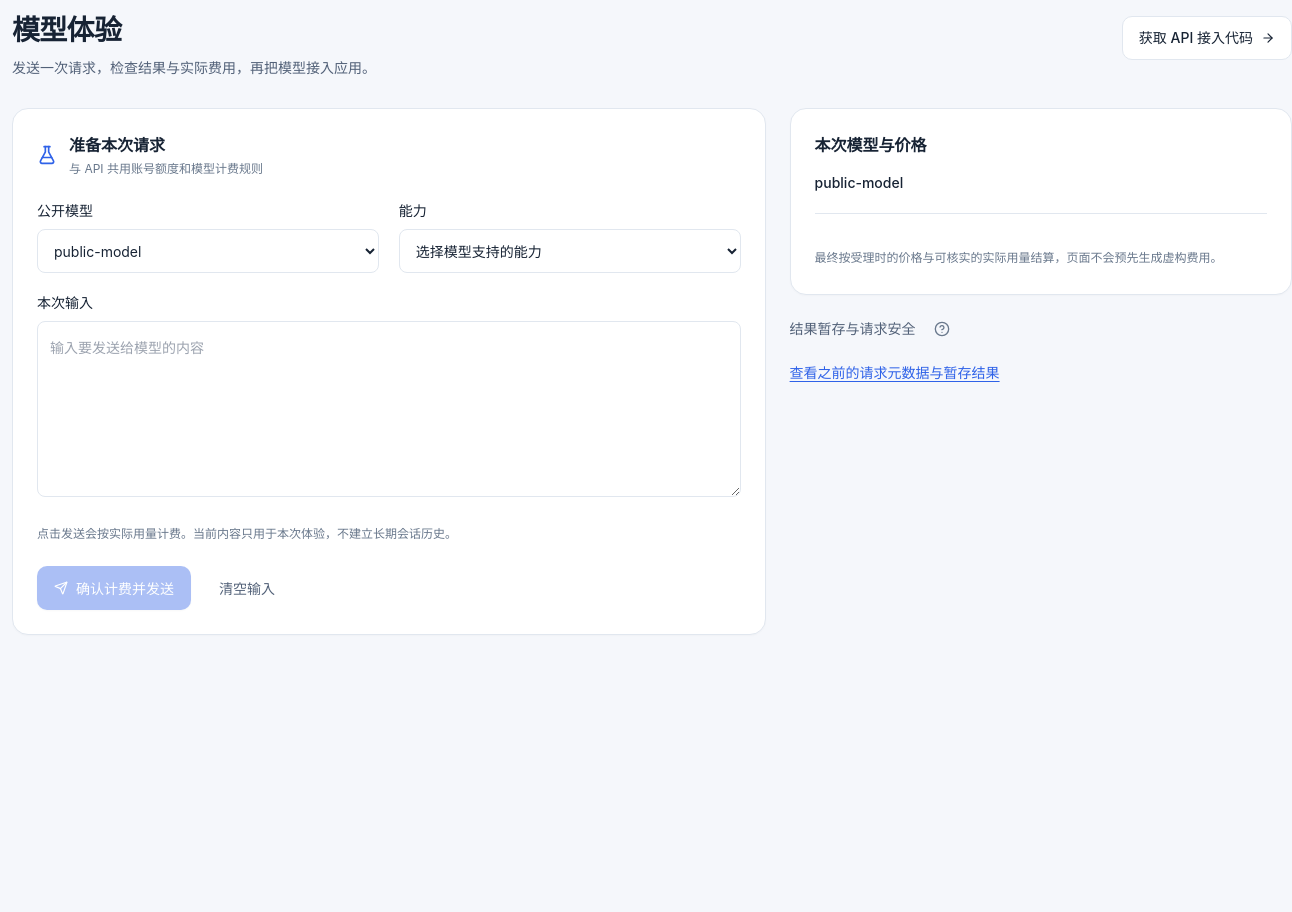
Test: sends the image prompt without a vendor parameter form
The image size is (1292, 912).
Select "public-model" in the dropdown labelled "公开模型" at (208, 251), box [37,229,379,273]
Select "图像生成" in the dropdown labelled "能力" at (570, 251), box [399,229,741,273]
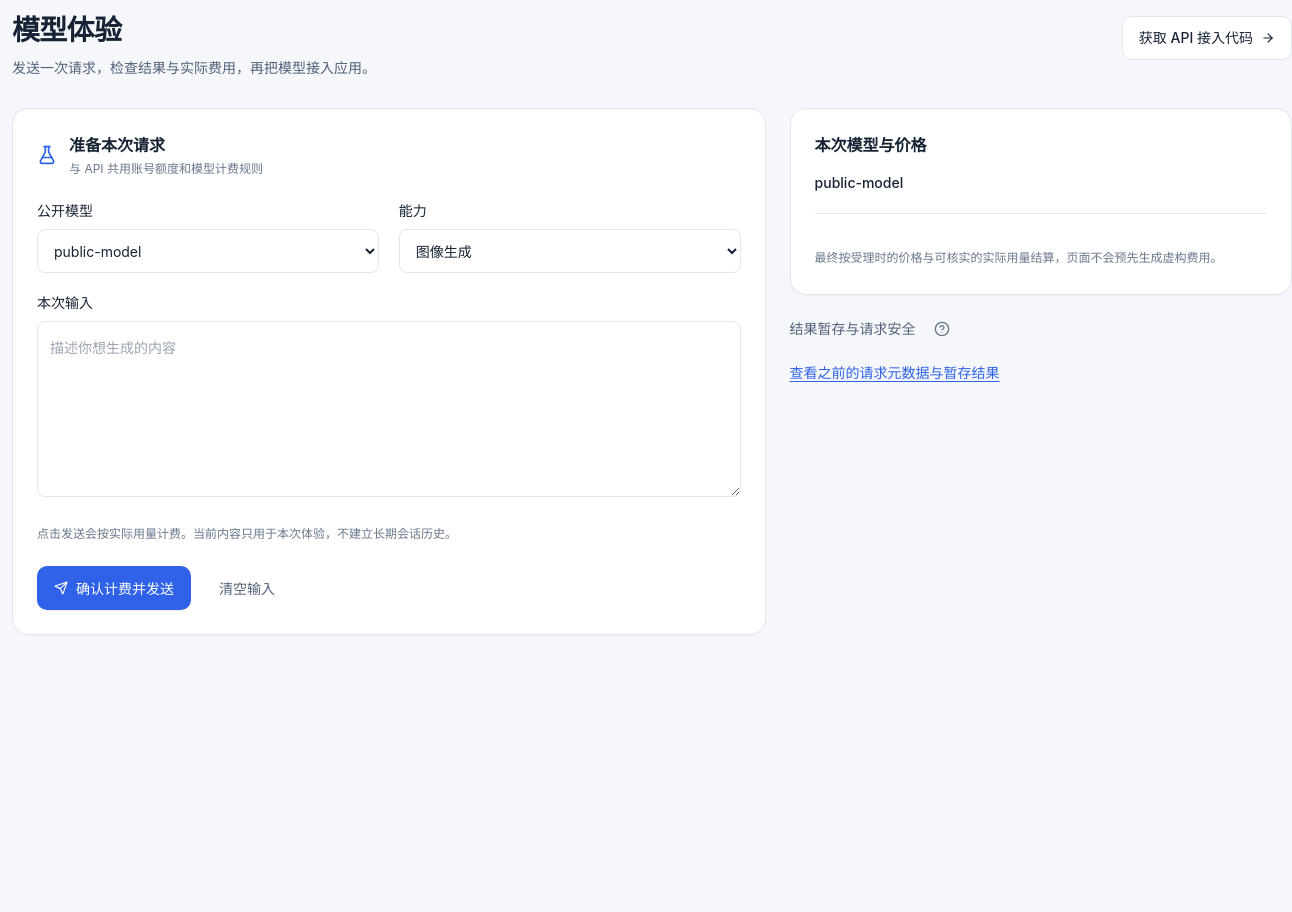
Type "海边的日出" into the text box labelled "本次输入" at (389, 409), box [37,321,741,497]
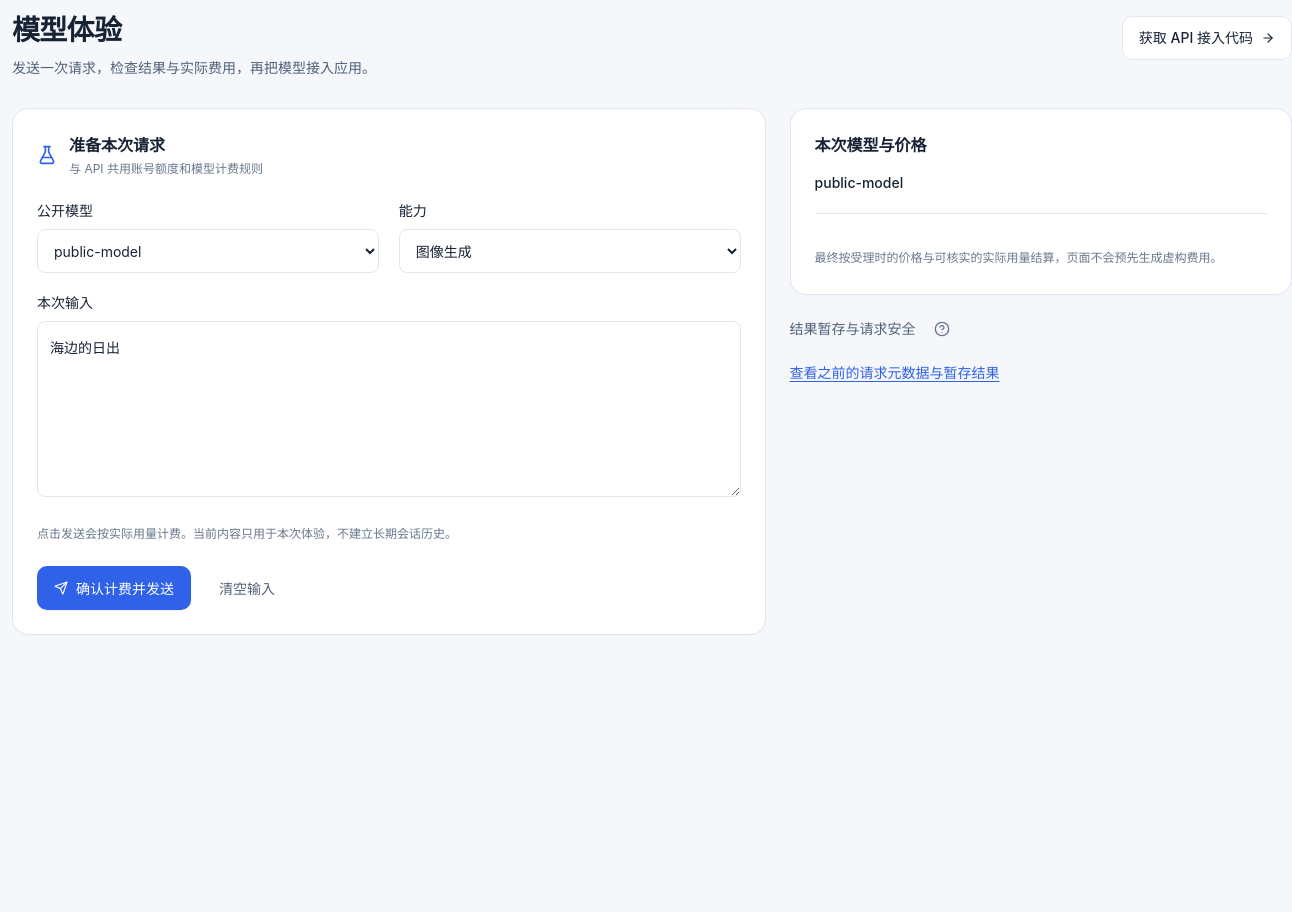
Click the button "确认计费并发送" at (114, 588), box [37,566,191,610]
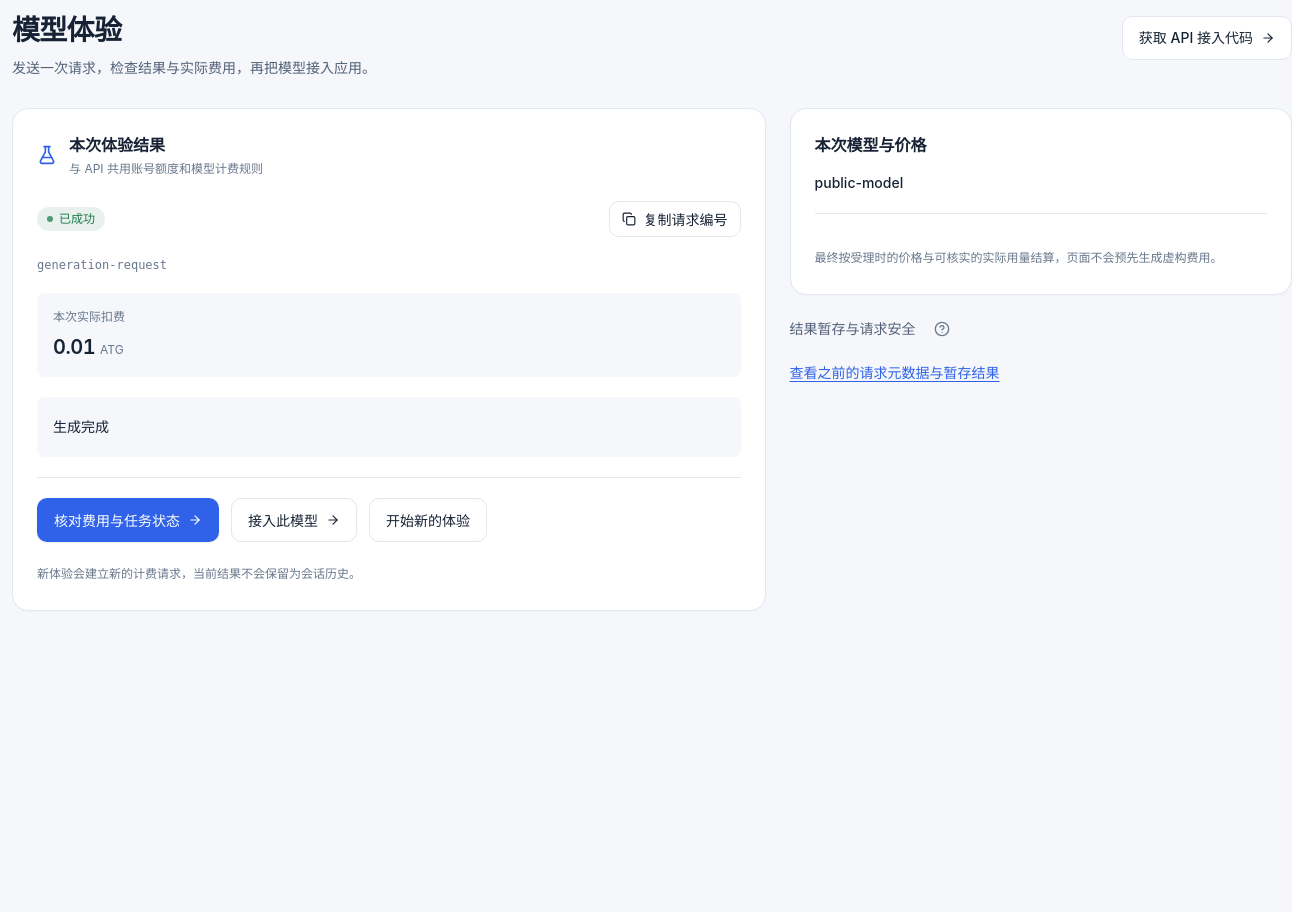
Now the text "生成完成" is shown, box [37,397,741,457]
